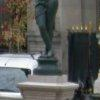Statue: (19, 1, 64, 73)
